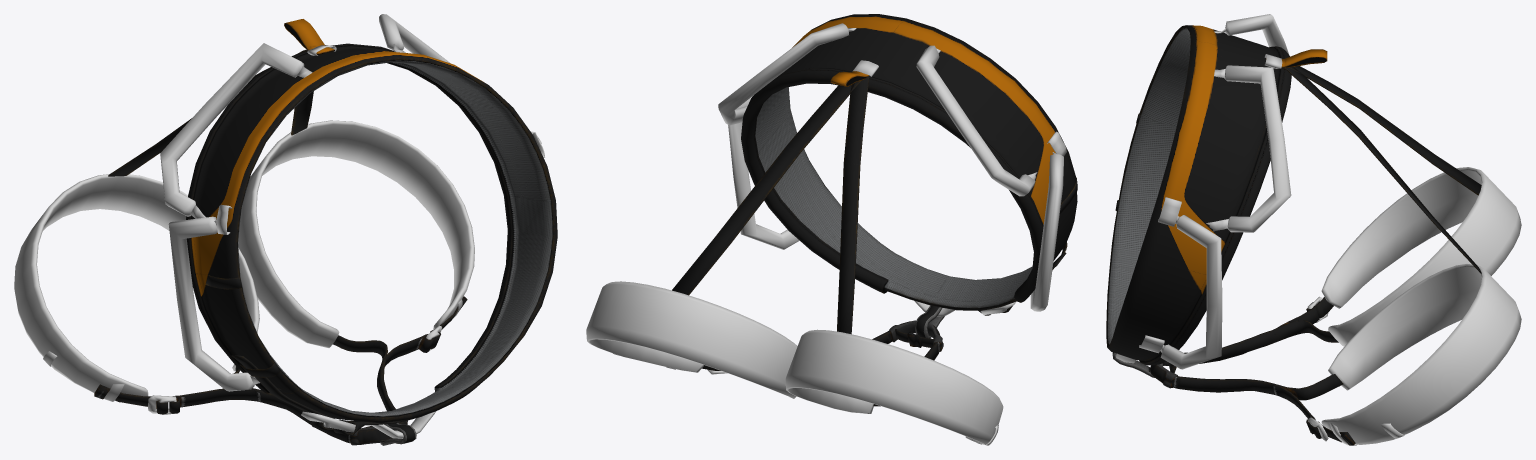
The model's file is harness.fbx.
3 renders of one model, left to right at view 1: azimuth 30°, elevation 25°; view 2: azimuth 150°, elevation 25°; view 3: azimuth 270°, elevation 25°, orthographic. The views are drawn at different scales.
Visible parts, largest first — view 1: Harness_3, Harness_1, Harness_2; view 2: Harness_3, Harness_1, Harness_2; view 3: Harness_1, Harness_3, Harness_2.
Boxes of the visible parts, left/top/right/bottom form: Harness_3: left=108, top=19, right=557, bottom=423; Harness_1: left=14, top=14, right=544, bottom=438; Harness_2: left=94, top=296, right=467, bottom=445; Harness_3: left=672, top=14, right=1077, bottom=334; Harness_1: left=586, top=23, right=1066, bottom=445; Harness_2: left=702, top=252, right=1066, bottom=406; Harness_1: left=1115, top=14, right=1521, bottom=445; Harness_3: left=1106, top=25, right=1481, bottom=365; Harness_2: left=1112, top=297, right=1355, bottom=445.
Size of the model in its own units: 19.2 by 16.03 by 17.83.
